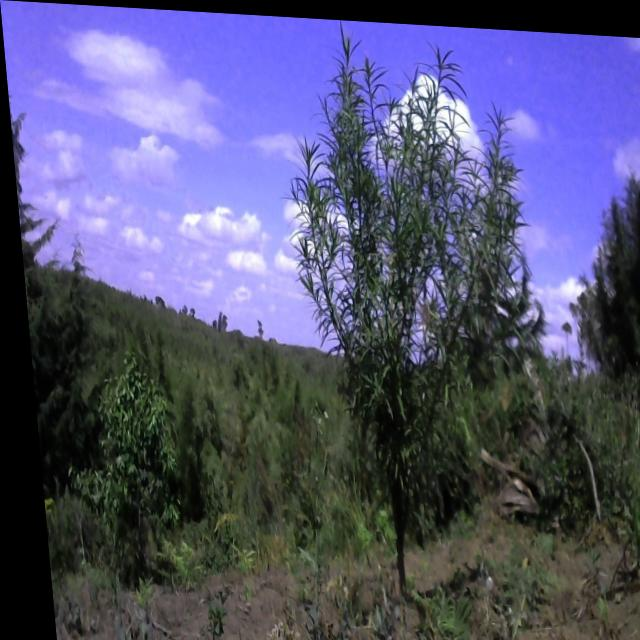Lemon Myrtle: (50, 352, 184, 571)
Podocarpus falcatus: (273, 13, 577, 640)
cedrus: (7, 102, 104, 483)
